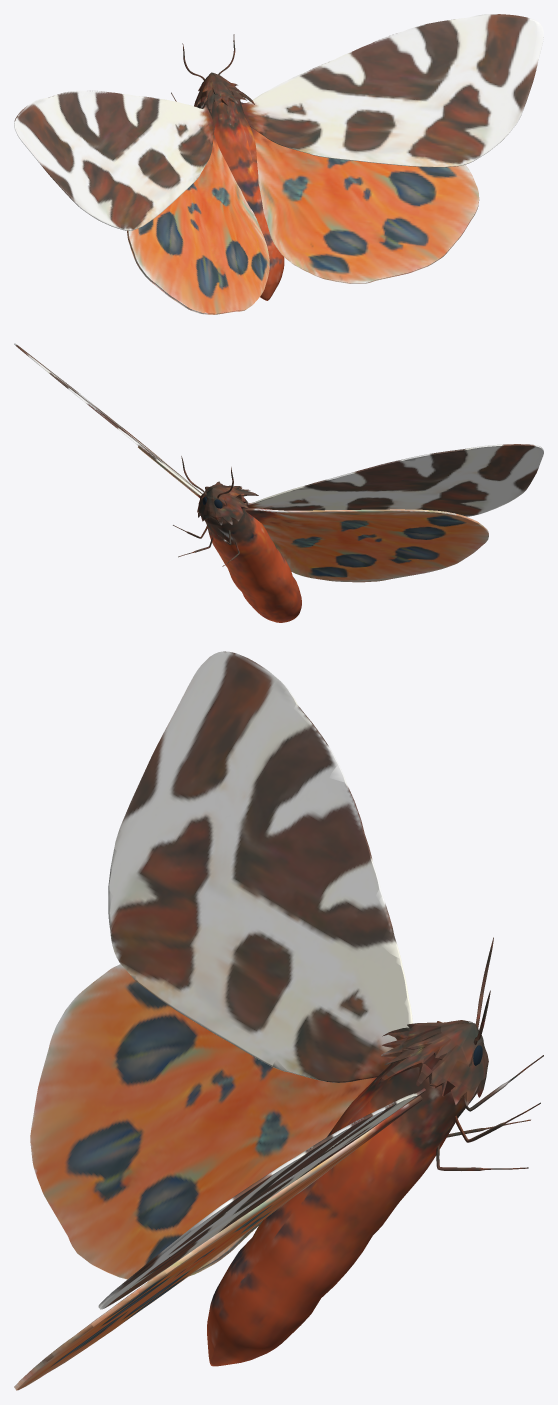
3 views of the same model, one above another, from view 1: azimuth 30°, elevation 25°; view 2: azimuth 150°, elevation 25°; view 3: azimuth 270°, elevation 25° (orthographic). The views are drawn at different scales.
Visible parts, largest first — view 1: polySurface14; view 2: polySurface14; view 3: polySurface14.
Boxes of the visible parts, x1=… form: polySurface14: x1=14, y1=14, x2=543, y2=314; polySurface14: x1=14, y1=343, x2=543, y2=622; polySurface14: x1=14, y1=651, x2=543, y2=1390.
Bounding box in the file's own units: 113 × 49.33 × 49.54.
1 material, 1 textured.
